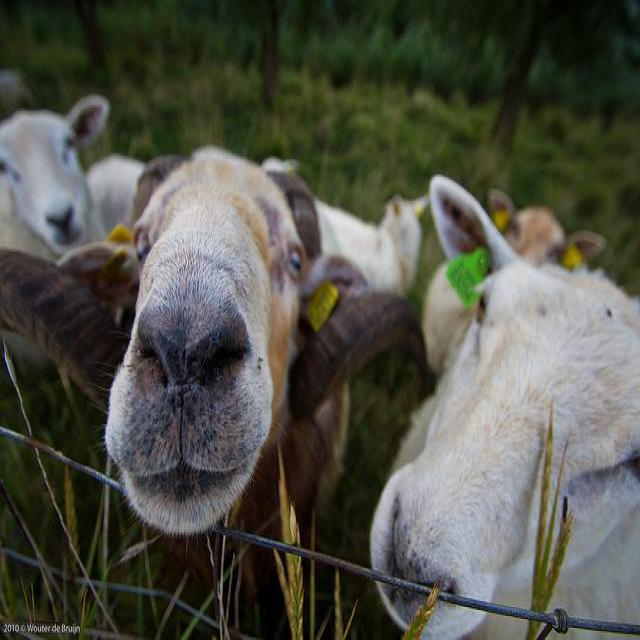Sheep: (0, 147, 428, 632), (366, 176, 639, 638), (270, 172, 405, 304), (2, 96, 111, 258), (47, 153, 149, 265), (487, 184, 608, 270)
